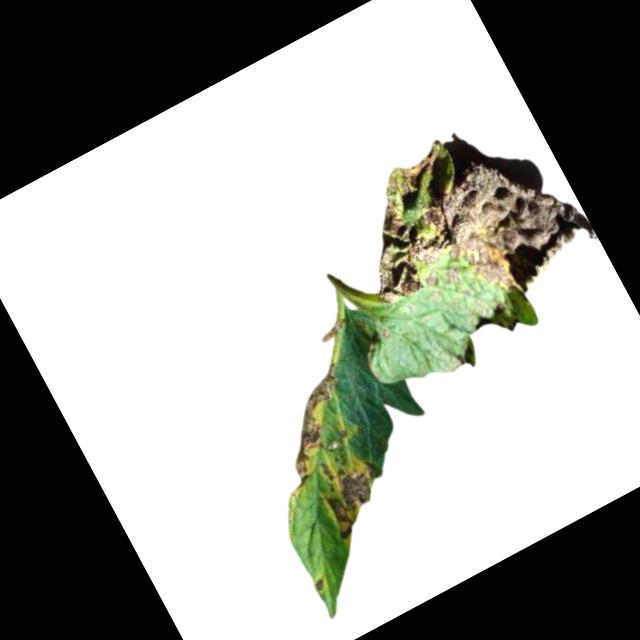Early_blight: (322, 94, 606, 359), (257, 366, 375, 484), (306, 447, 400, 542), (311, 576, 328, 592)
